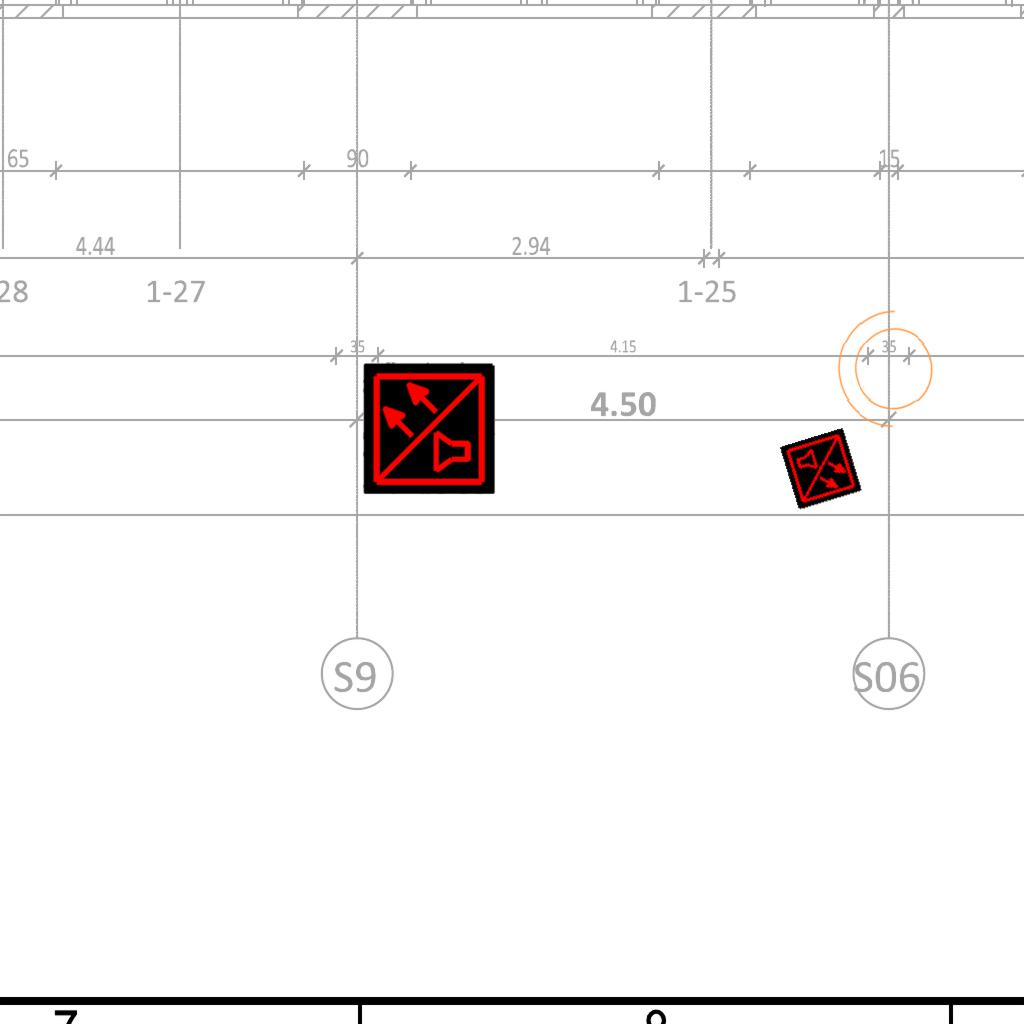OKW_Multisensormelder_(Kombination_optischer_Rauch-Kahlenmonoxid_Waerme-Melder): (363, 362, 495, 494), (779, 427, 863, 511)
Scheinwerfer_fuer_Alarmbeleuchtung: (831, 305, 947, 439)
